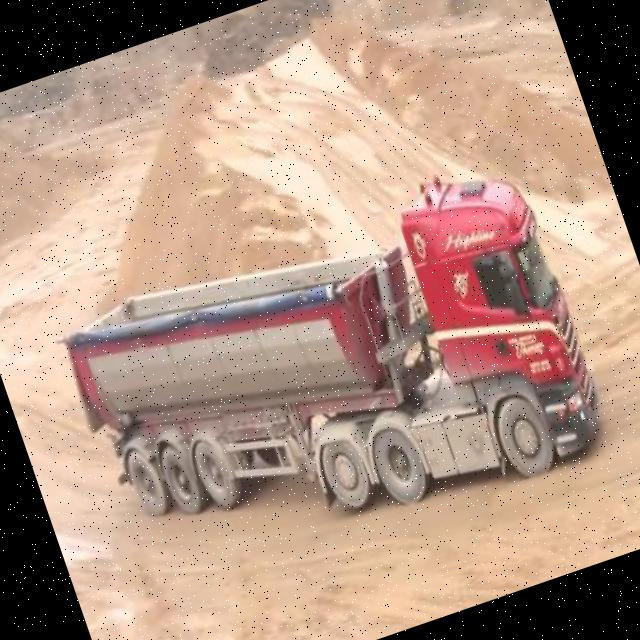Dump Truck: (39, 145, 622, 614)
